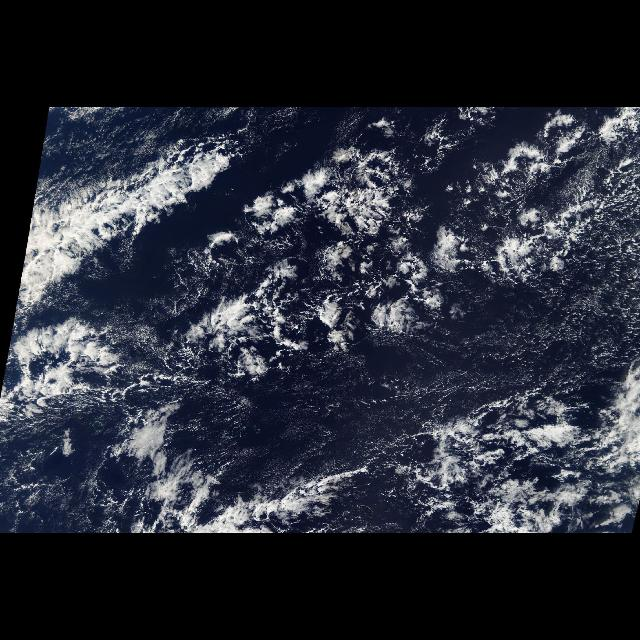Fish: (10, 125, 250, 331)
Flower: (190, 126, 624, 390)
Gravel: (82, 417, 336, 533)
Sugar: (396, 243, 640, 403)
